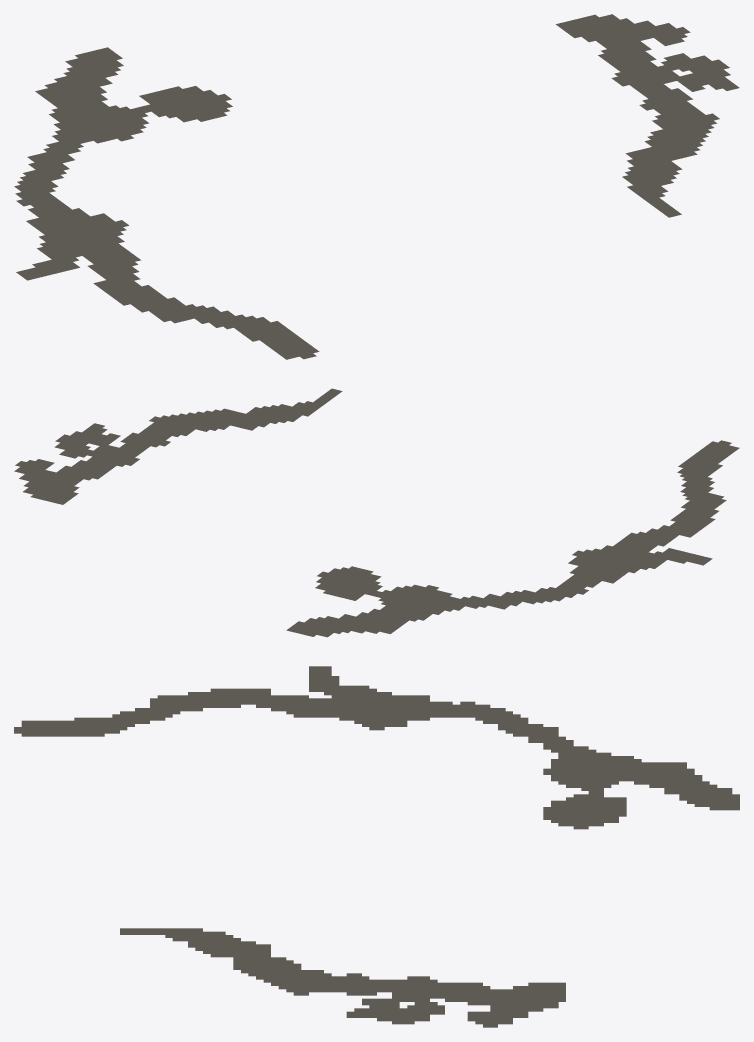
The model's file is Isl-bot4-NoBuildArea.fbx.
The picture shows the model from 3 angles, top to bottom: view 1: azimuth 30°, elevation 25°; view 2: azimuth 150°, elevation 25°; view 3: azimuth 270°, elevation 25°; orthographic projection. The views are drawn at different scales.
Parts seen in each view (by area): view 1: Isl-bot4-NoBuildArea; view 2: Isl-bot4-NoBuildArea; view 3: Isl-bot4-NoBuildArea.
Part boxes in pixels (x1,y1,x2,y2): Isl-bot4-NoBuildArea: (14, 14, 739, 359); Isl-bot4-NoBuildArea: (14, 388, 739, 637); Isl-bot4-NoBuildArea: (14, 666, 739, 1027).
Bounding box in the file's own units: 113 × 0 × 96.
